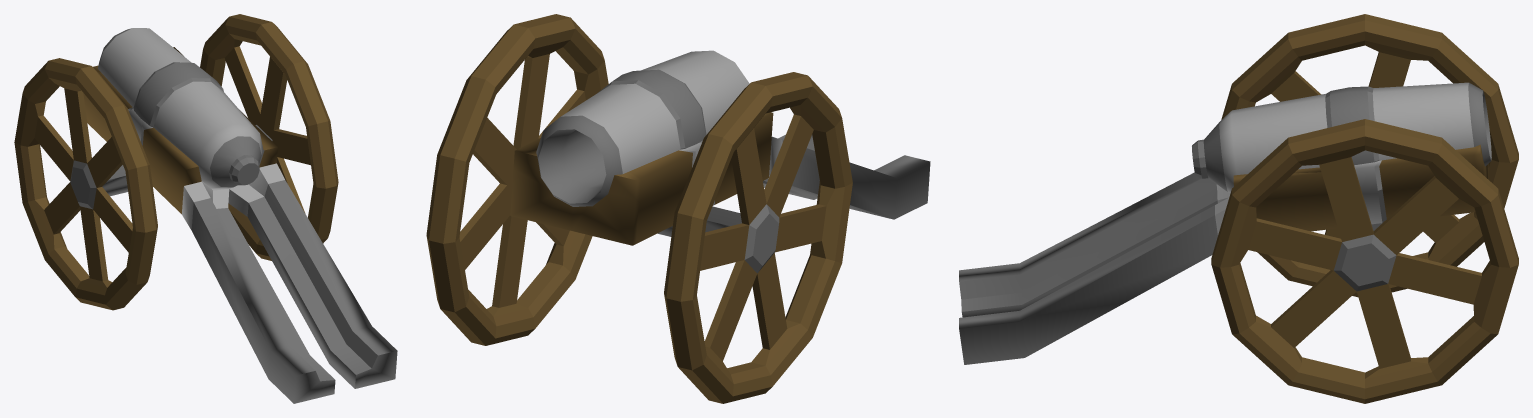
The model's file is cannonade_Idle.fbx.
3 views of the same model, side by side, from view 1: azimuth 30°, elevation 25°; view 2: azimuth 150°, elevation 25°; view 3: azimuth 270°, elevation 25° (orthographic). The views are drawn at different scales.
Parts seen in each view (by area): view 1: CannonSupport, Wheel2, Cannon, Wheel1; view 2: Wheel2, Wheel1, Cannon, CannonSupport; view 3: Wheel1, CannonSupport, Wheel2, Cannon.
Boxes of the visible parts, x1,y1,x2,y2 form: CannonSupport: [83, 47, 397, 403]; Wheel2: [14, 58, 157, 310]; Cannon: [98, 28, 262, 188]; Wheel1: [200, 14, 338, 260]; Wheel2: [664, 72, 852, 403]; Wheel1: [426, 14, 608, 345]; Cannon: [536, 50, 749, 206]; CannonSupport: [510, 112, 930, 245]; Wheel1: [1211, 119, 1518, 403]; CannonSupport: [959, 144, 1488, 364]; Wheel2: [1221, 14, 1518, 297]; Cannon: [1192, 82, 1491, 193].
Bounding box in the file's own units: 1.37 × 1.51 × 2.75.
